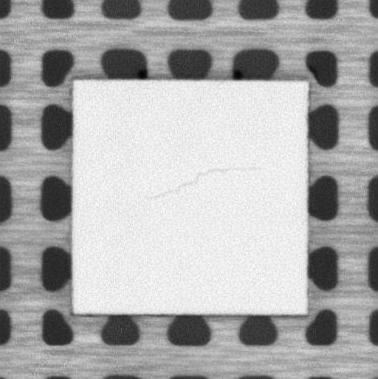DIE_CRACK: (143, 165, 265, 202)
